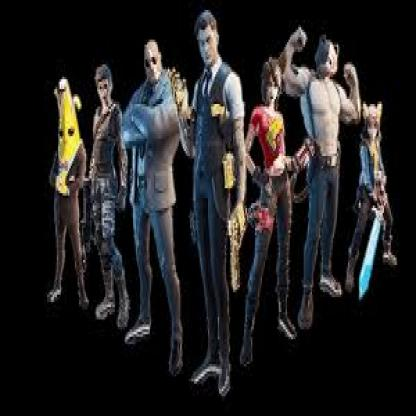person: (186, 24, 250, 396), (131, 44, 183, 369), (255, 49, 298, 340), (45, 86, 89, 310), (358, 94, 398, 299), (258, 60, 282, 109), (311, 34, 338, 77), (364, 109, 386, 138)
